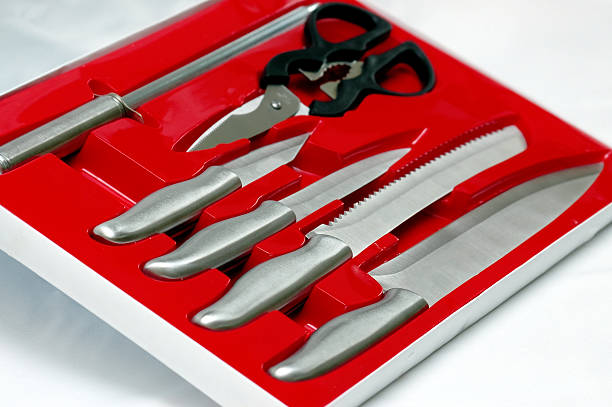knife: (265, 160, 605, 384), (188, 122, 530, 333), (138, 146, 414, 283), (86, 130, 315, 249)
